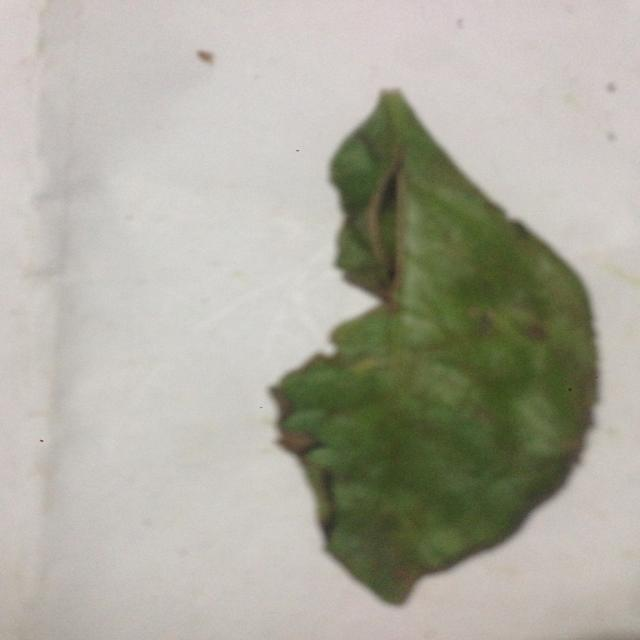Red Leaf Spot: (256, 88, 586, 620)
